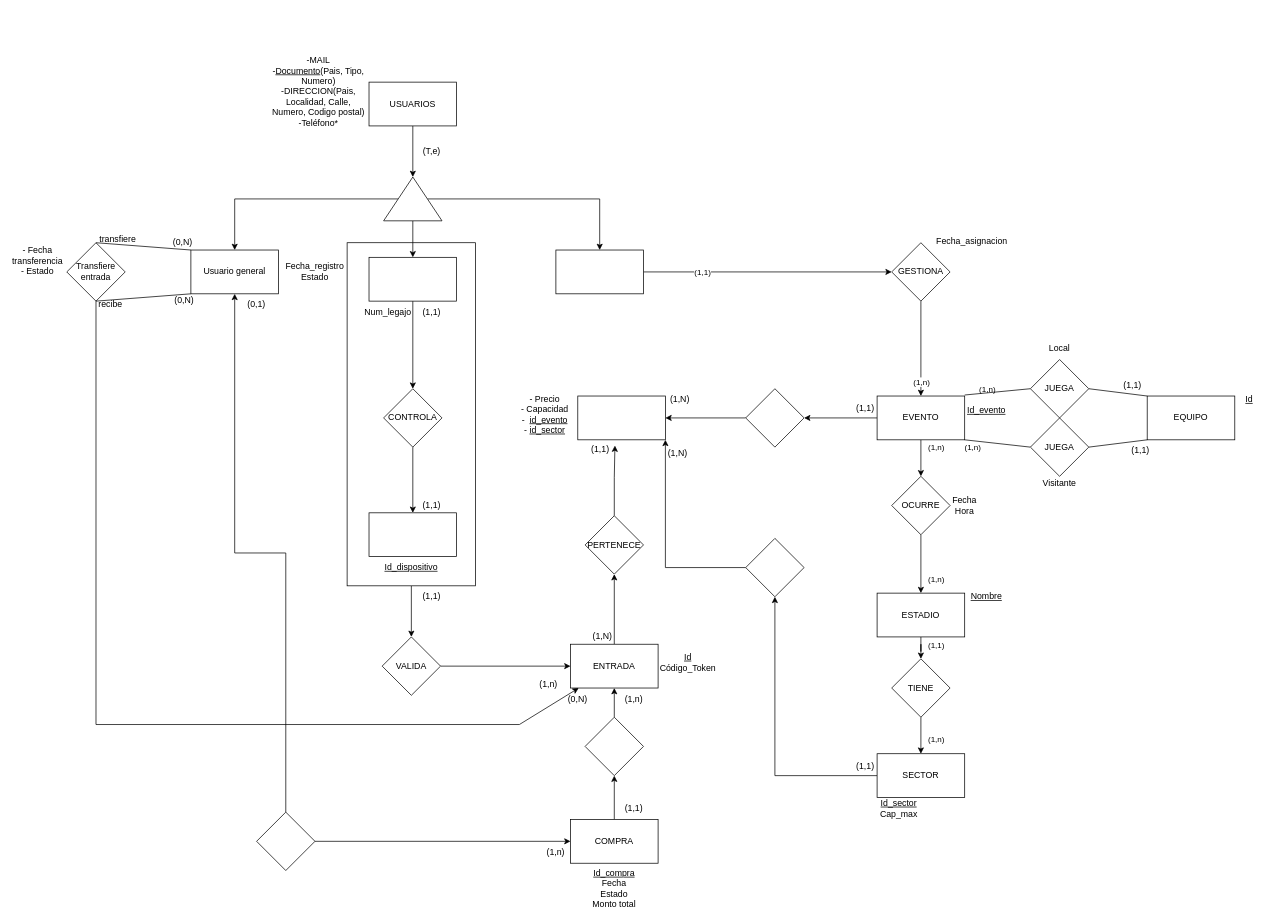
Some shapes in this 1284 by 922 pixel diagram are drawn without their labels. Here are the shapes that lost their labels. From the top down, the centre of each, then its label:
At [412,198]: "son".
At [412,279]: "Funcionario validacion".
At [599,271]: "Adm Pais/sede".
At [621,417]: "EVENTO_SECTOR".
At [774,417]: "HABILITA".
At [412,534]: "DISPOSITIVO".
At [774,567]: "CORRESPONE".
At [613,746]: "CONTIENE".
At [285,841]: "REALIZA".
